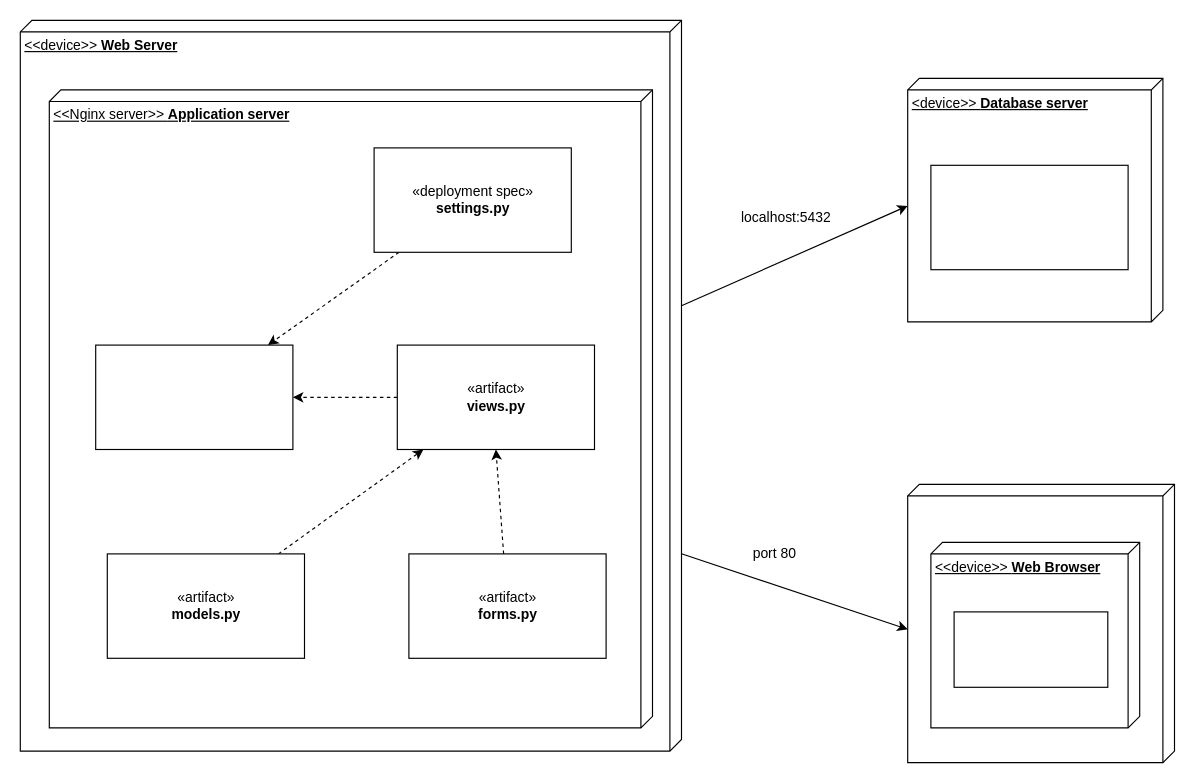
This 1195x783 diagram has some shape labels left out. Here are the shapes that lost their labels. From the top down, the box of each, then its label:
(930, 164, 1128, 270): «artifact» PostgreSQL Database
(95, 344, 293, 449): «artifact» django templates
(907, 483, 1174, 763): <<device>> User PC
(953, 611, 1108, 687): «artifact» Web app
